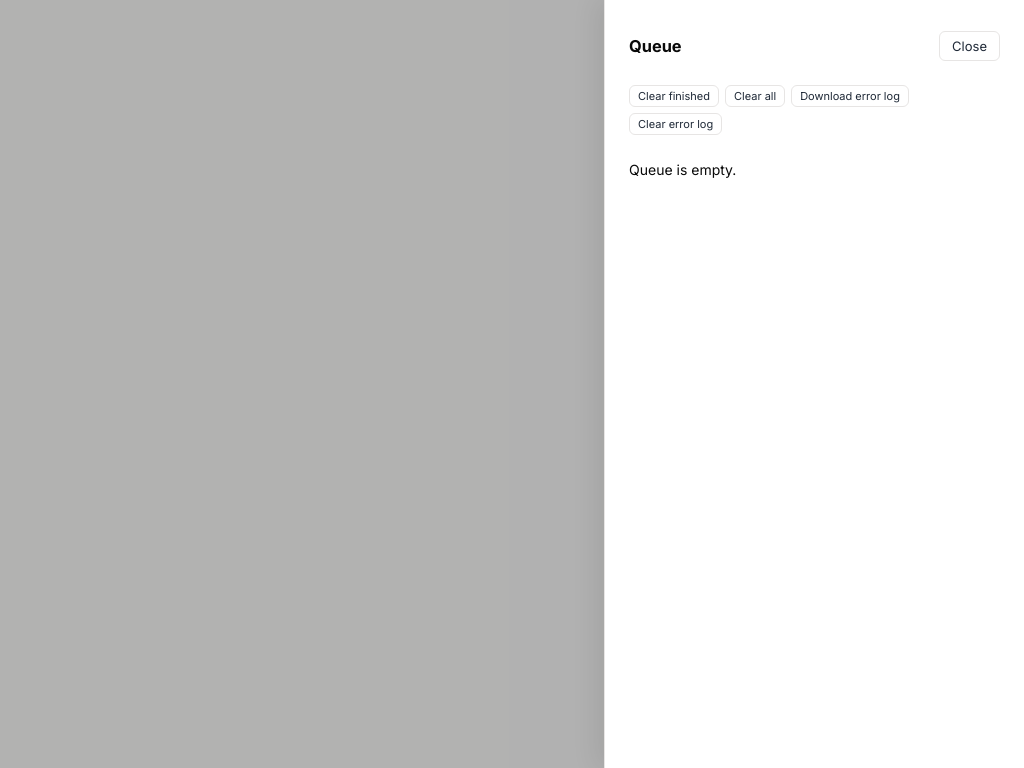
Test: QueueDrawer › cancelling clear all leaves the queue unchanged
Click the button "Clear all" at (755,96), box [725,85,785,107]
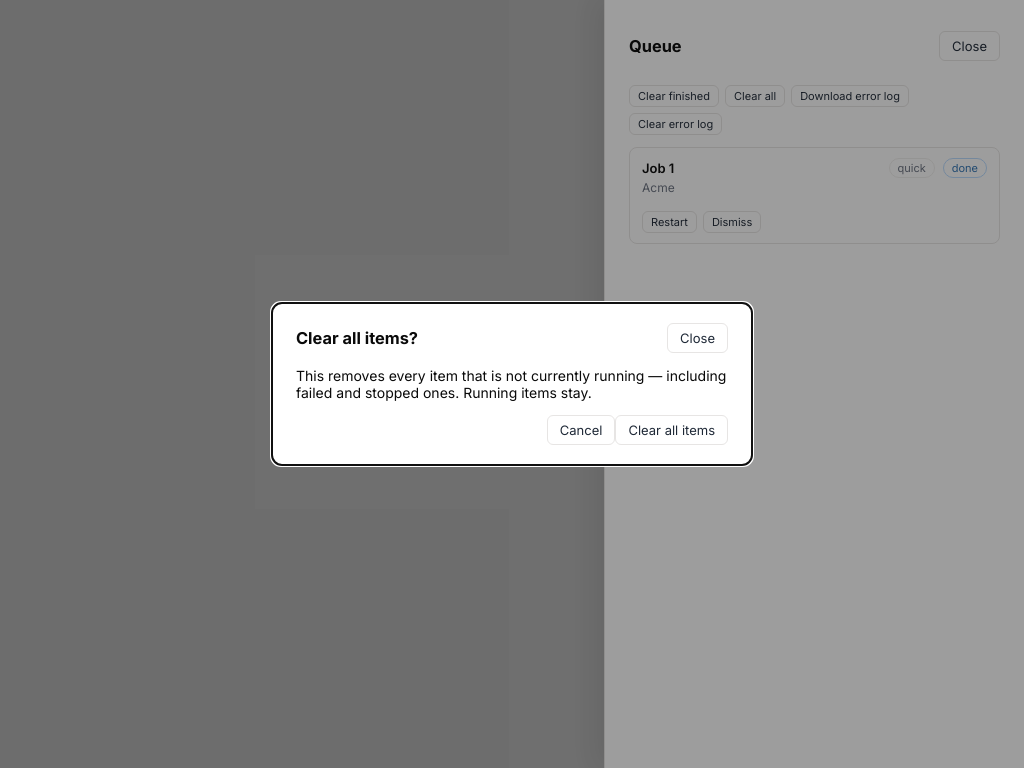
Click the button "Cancel" at (581,430), box [547,415,615,445]
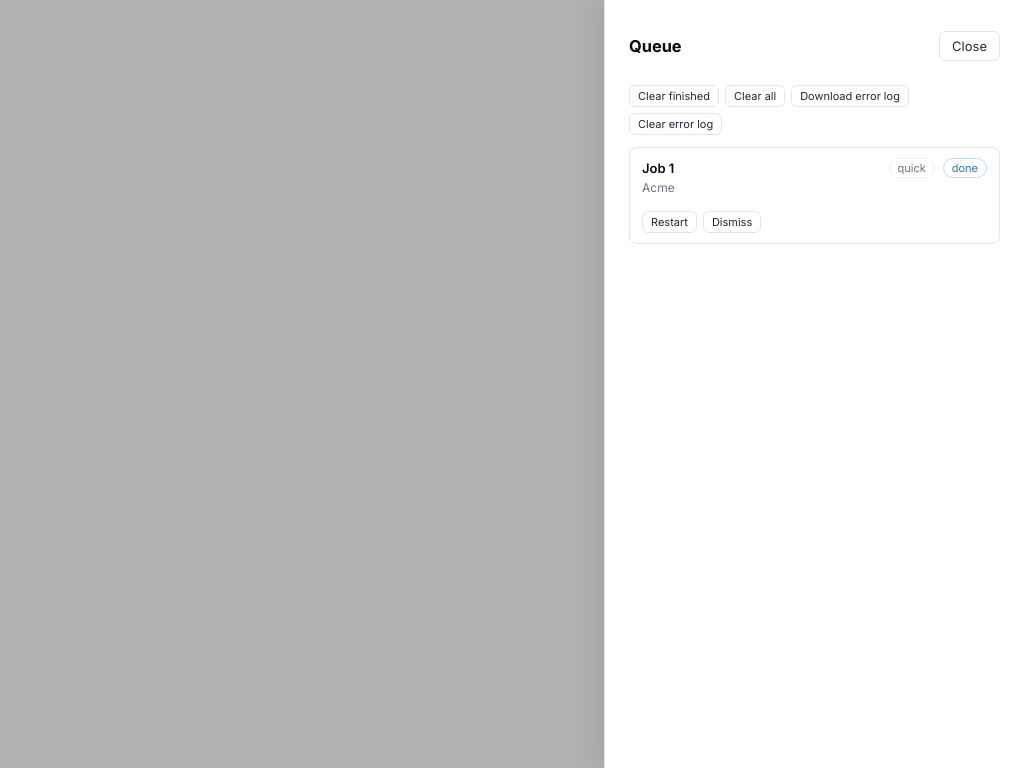
Result: the button "Job 1" is shown at [642,160,880,176]
Result: the heading "Clear all items" is gone
